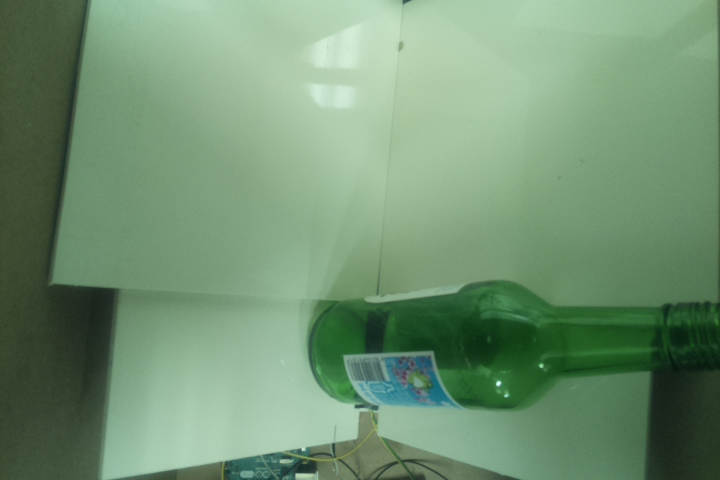soju: (308, 279, 720, 415)
